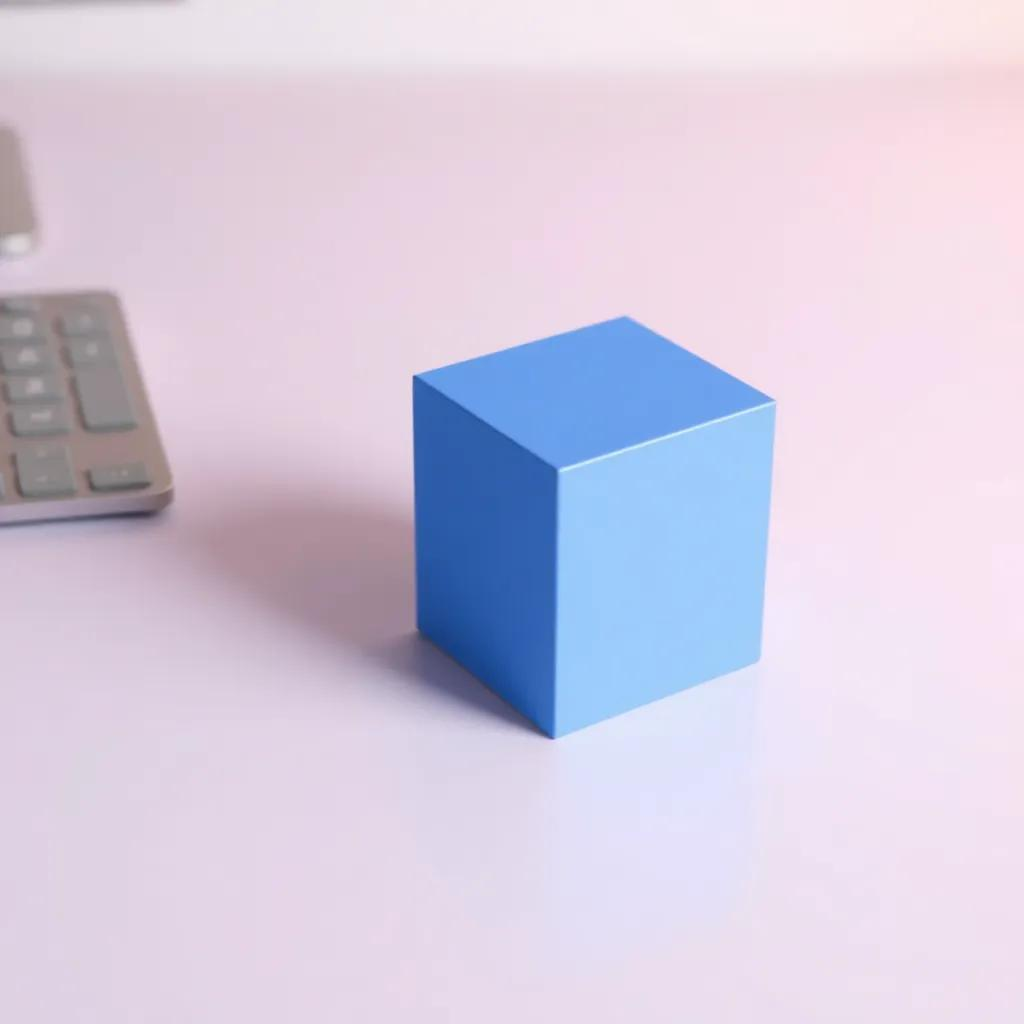cube: (410, 313, 777, 739)
